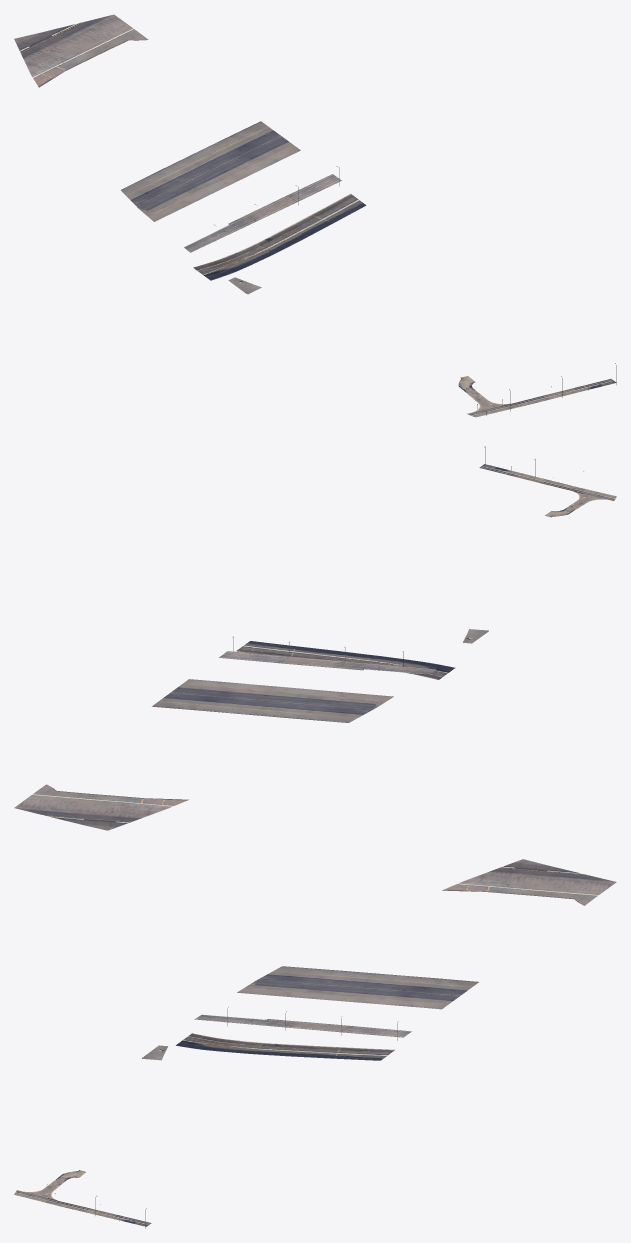
File: roads_context_15.glb
The picture shows the model from 3 angles, top to bottom: view 1: azimuth 30°, elevation 25°; view 2: azimuth 150°, elevation 25°; view 3: azimuth 330°, elevation 25°; orthographic projection. The views are drawn at different scales.
Parts seen in each view (by area): view 1: I082501740001062A1.001; view 2: I082501740001062A1.001; view 3: I082501740001062A1.001.
Part boxes in pixels (<box>): I082501740001062A1.001: <box>14,14,616,417</box>; I082501740001062A1.001: <box>14,446,616,830</box>; I082501740001062A1.001: <box>14,859,616,1228</box>.
Bounding box in the file's own units: 126 × 20.01 × 587.
8 materials, 8 textured.
